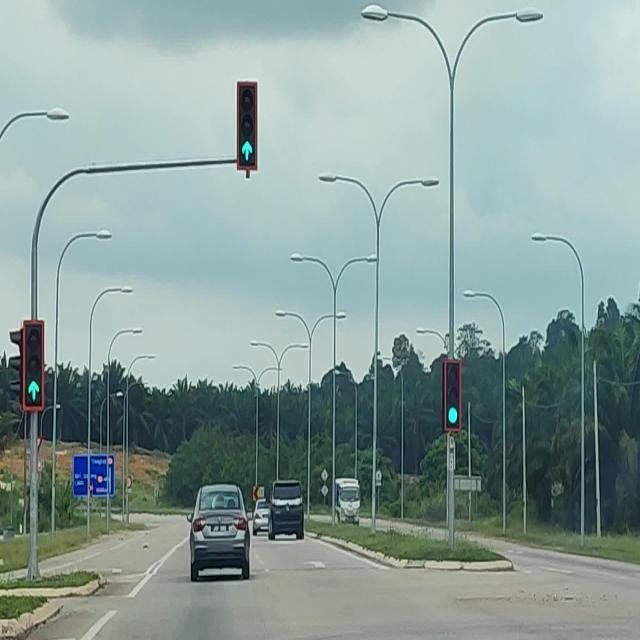green_light: (22, 319, 44, 408), (237, 81, 257, 170), (443, 359, 462, 430)
